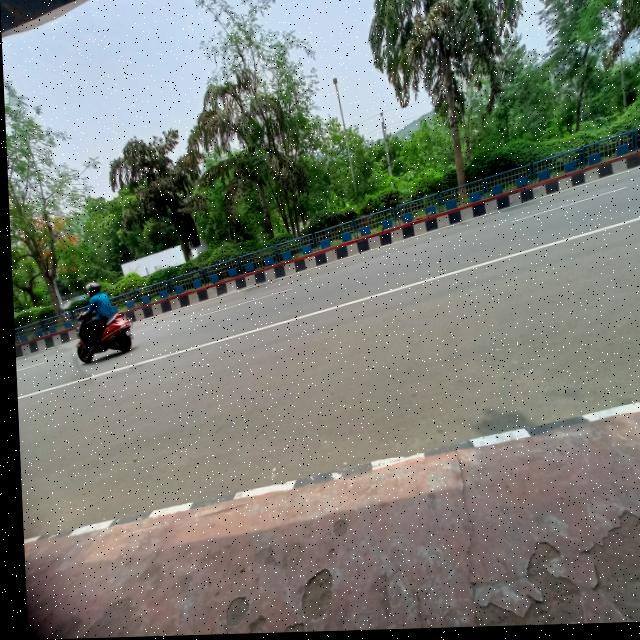bike: (63, 309, 136, 366)
